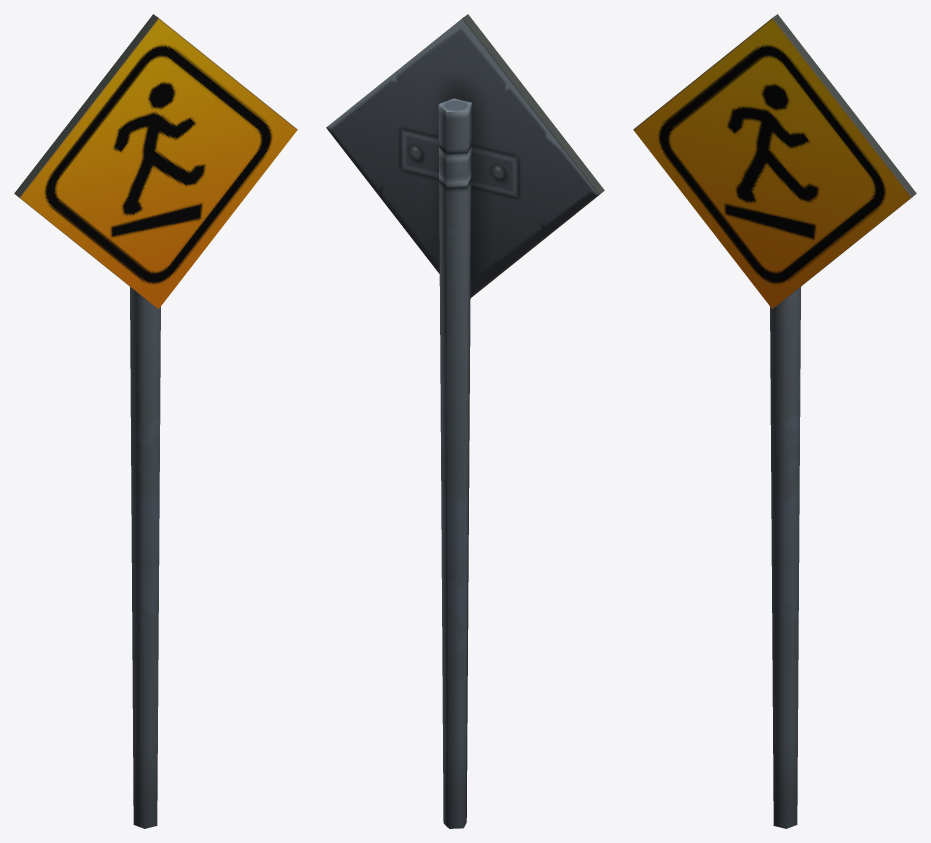
Rendered from Signboard4.fbx.
3 renders of one model, left to right at view 1: azimuth 30°, elevation 25°; view 2: azimuth 150°, elevation 25°; view 3: azimuth 330°, elevation 25°, orthographic.
Parts seen in each view (by area): view 1: polySurface139; view 2: polySurface139; view 3: polySurface139.
Part boxes in pixels (left/top/right/bottom): polySurface139: left=14, top=14, right=297, bottom=828; polySurface139: left=326, top=14, right=604, bottom=828; polySurface139: left=633, top=14, right=916, bottom=828.
Size of the model in its own units: 1.35 by 3.78 by 0.1806.
